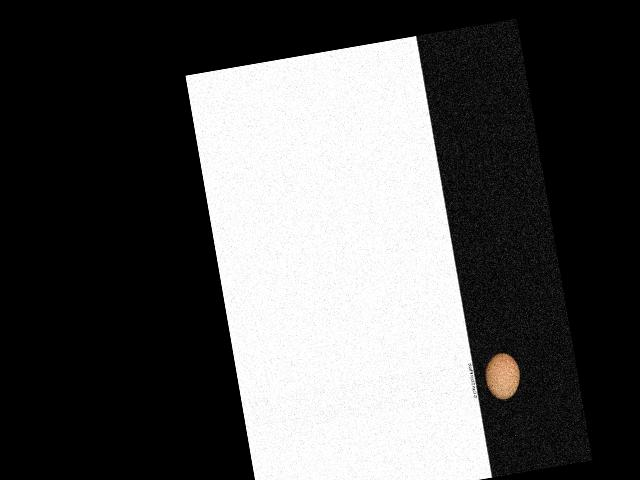egg: (480, 350, 523, 402)
